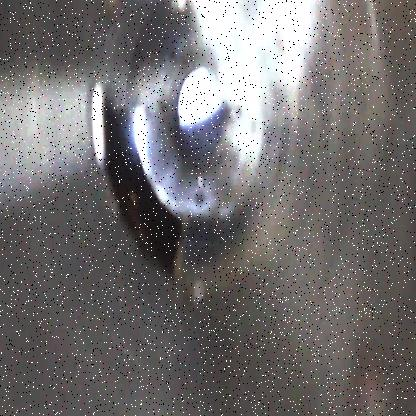Crack2: (86, 80, 185, 287)
